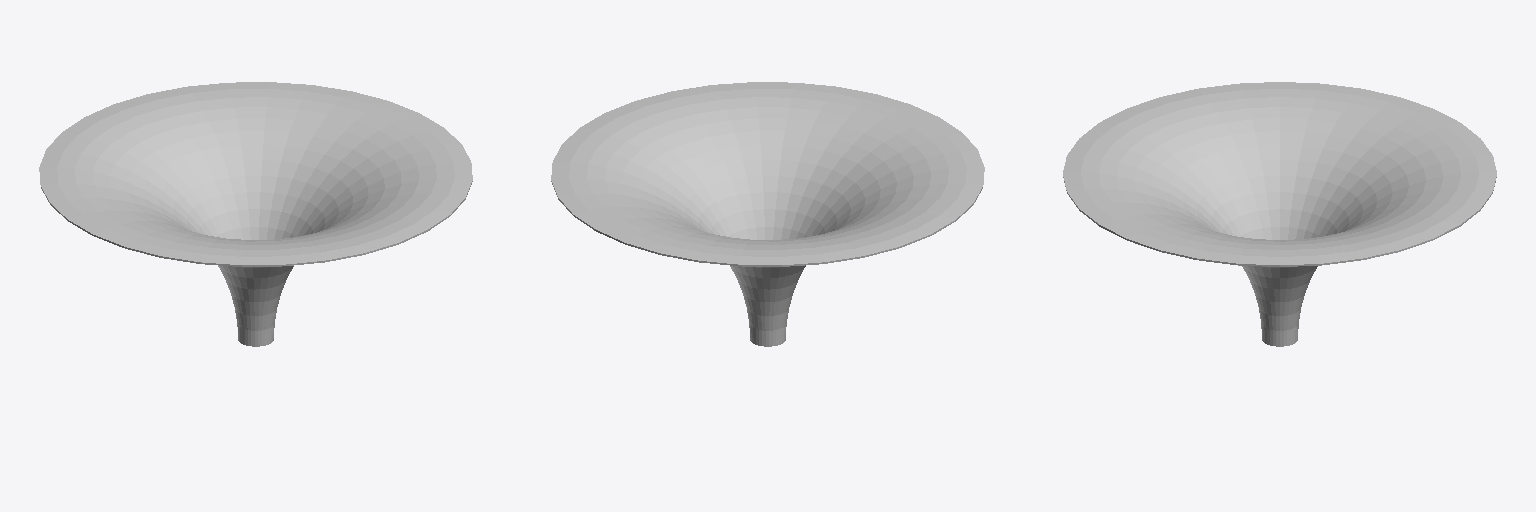
File: funnel.obj
3 renders of one model, left to right at view 1: azimuth 30°, elevation 25°; view 2: azimuth 150°, elevation 25°; view 3: azimuth 270°, elevation 25°, orthographic.
Visible parts, largest first — view 1: Torus; view 2: Torus; view 3: Torus.
Boxes of the visible parts, box(x1,y1,x2,y2) form: Torus: box(39, 82, 472, 346); Torus: box(551, 82, 984, 346); Torus: box(1063, 82, 1496, 346).
Bounding box in the file's own units: 10.9 × 4.6 × 10.9.